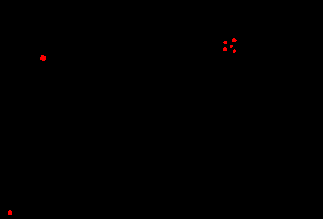Target: (40, 55, 46, 61), (232, 38, 237, 42), (8, 210, 12, 215), (223, 47, 227, 51), (223, 41, 227, 44), (233, 49, 236, 53), (230, 45, 233, 48)
